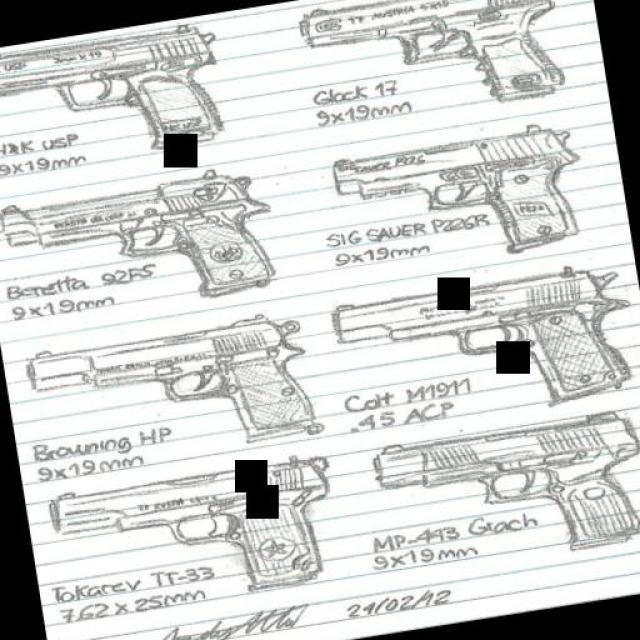gun: (39, 445, 339, 635), (329, 255, 636, 435), (6, 304, 322, 476), (367, 402, 640, 585), (0, 161, 281, 331), (322, 115, 588, 280), (0, 14, 230, 170), (291, 0, 569, 129)
